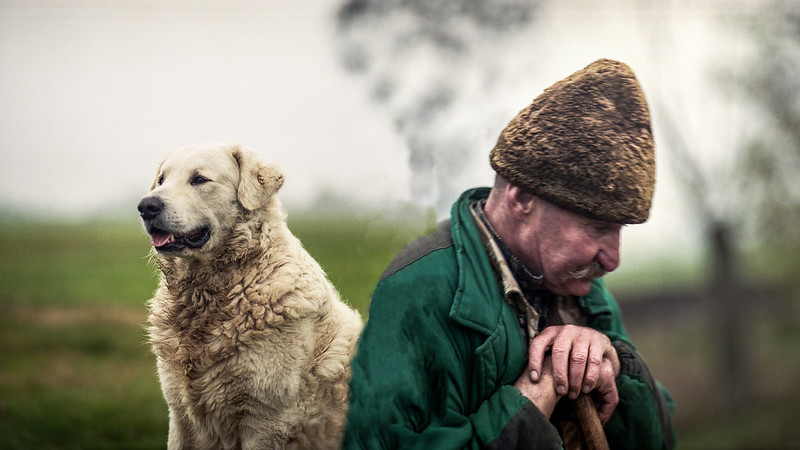dog: (130, 127, 351, 441)
person: (359, 35, 688, 438)
